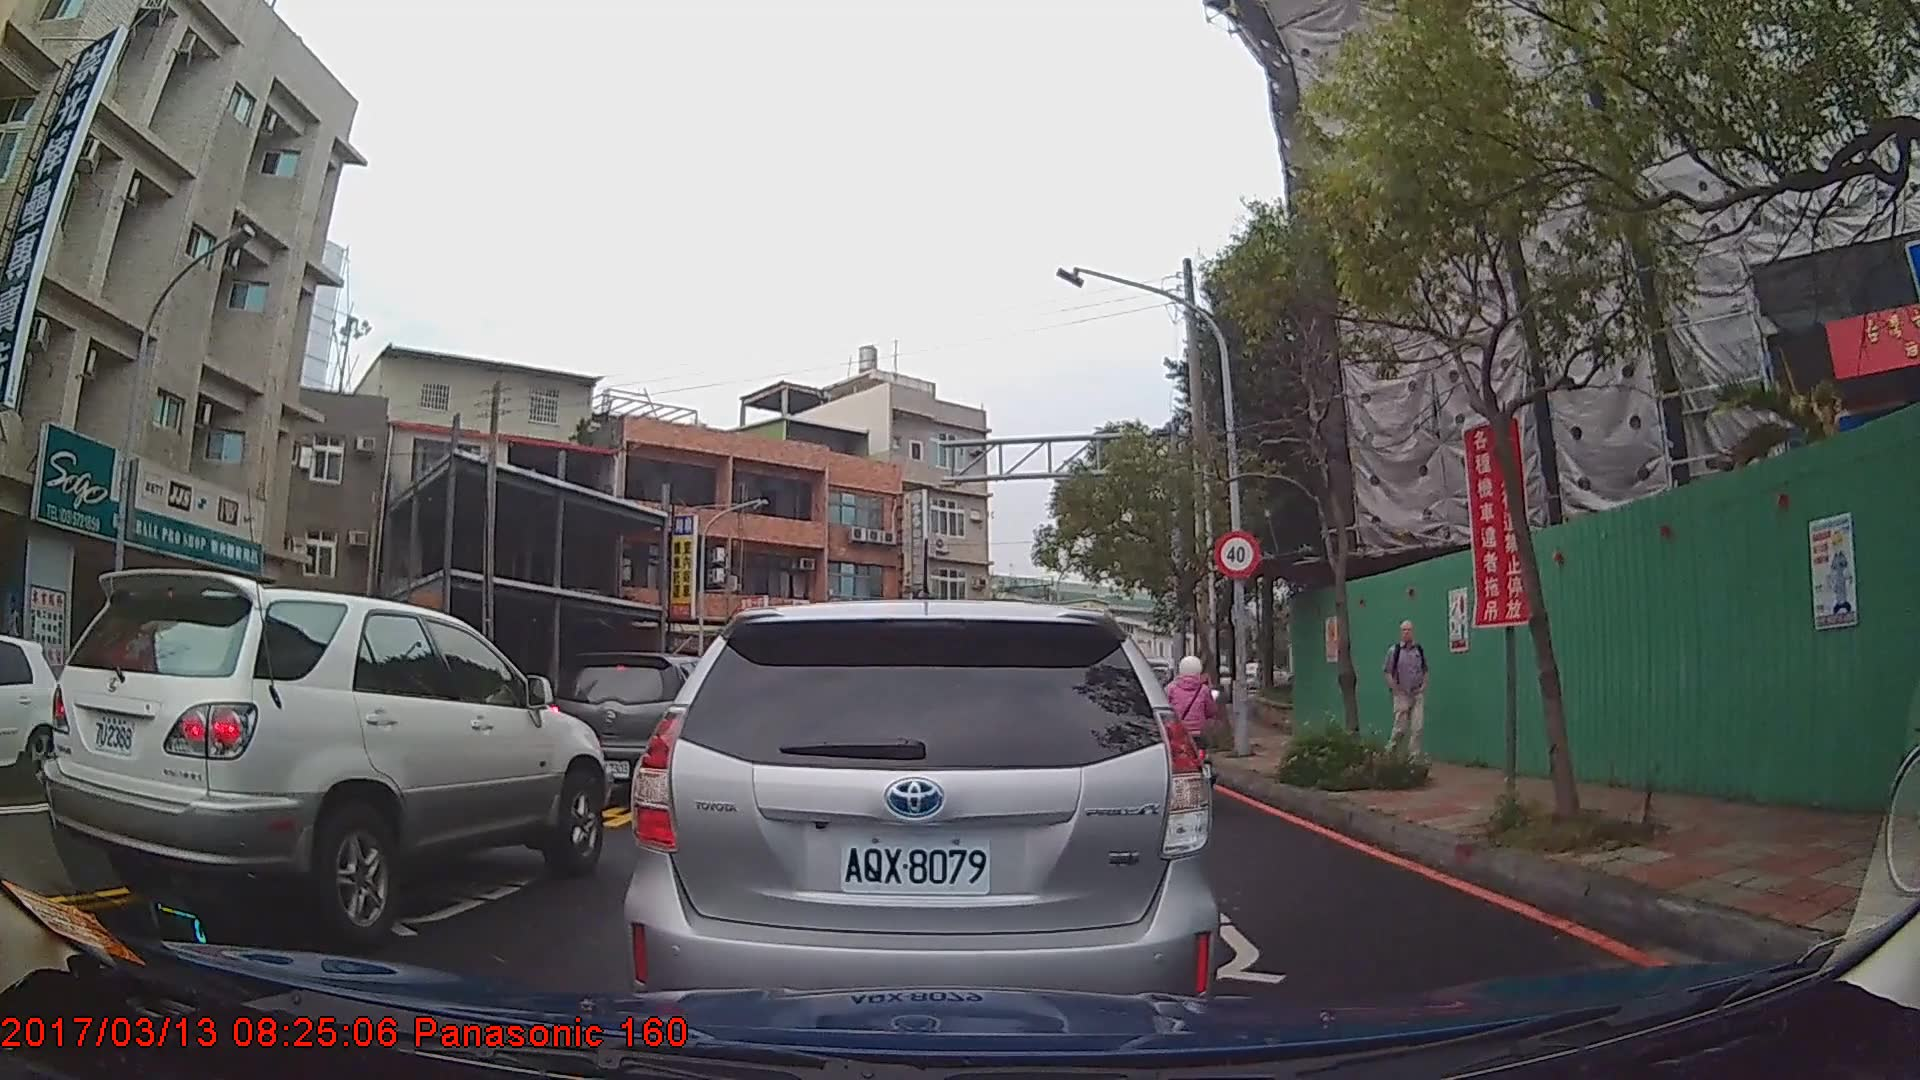pedestrian: (1382, 620, 1431, 765)
rider: (1158, 654, 1225, 805)
vehicle: (624, 594, 1220, 1043), (39, 567, 613, 944), (553, 648, 753, 799), (0, 631, 70, 799)
